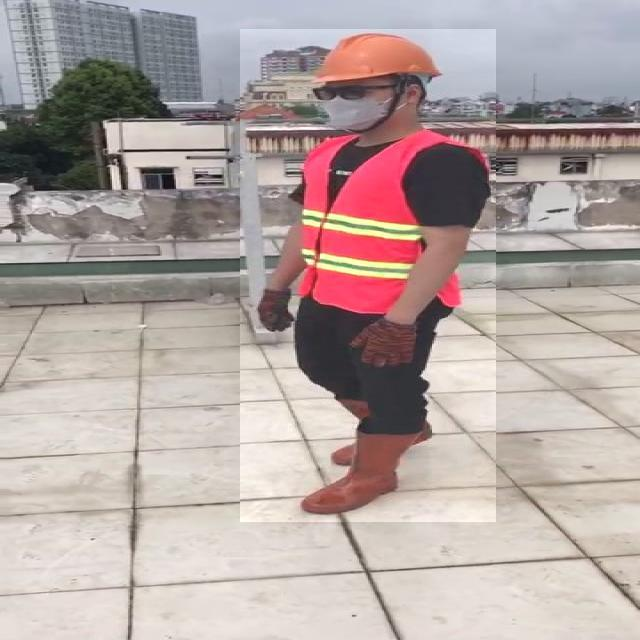Gloves: (348, 322, 416, 370), (256, 290, 295, 334)
Helmet: (309, 35, 440, 87)
Human: (240, 30, 496, 524)
Safety Boot: (301, 433, 413, 516)
Safety Vest: (299, 134, 473, 313)
